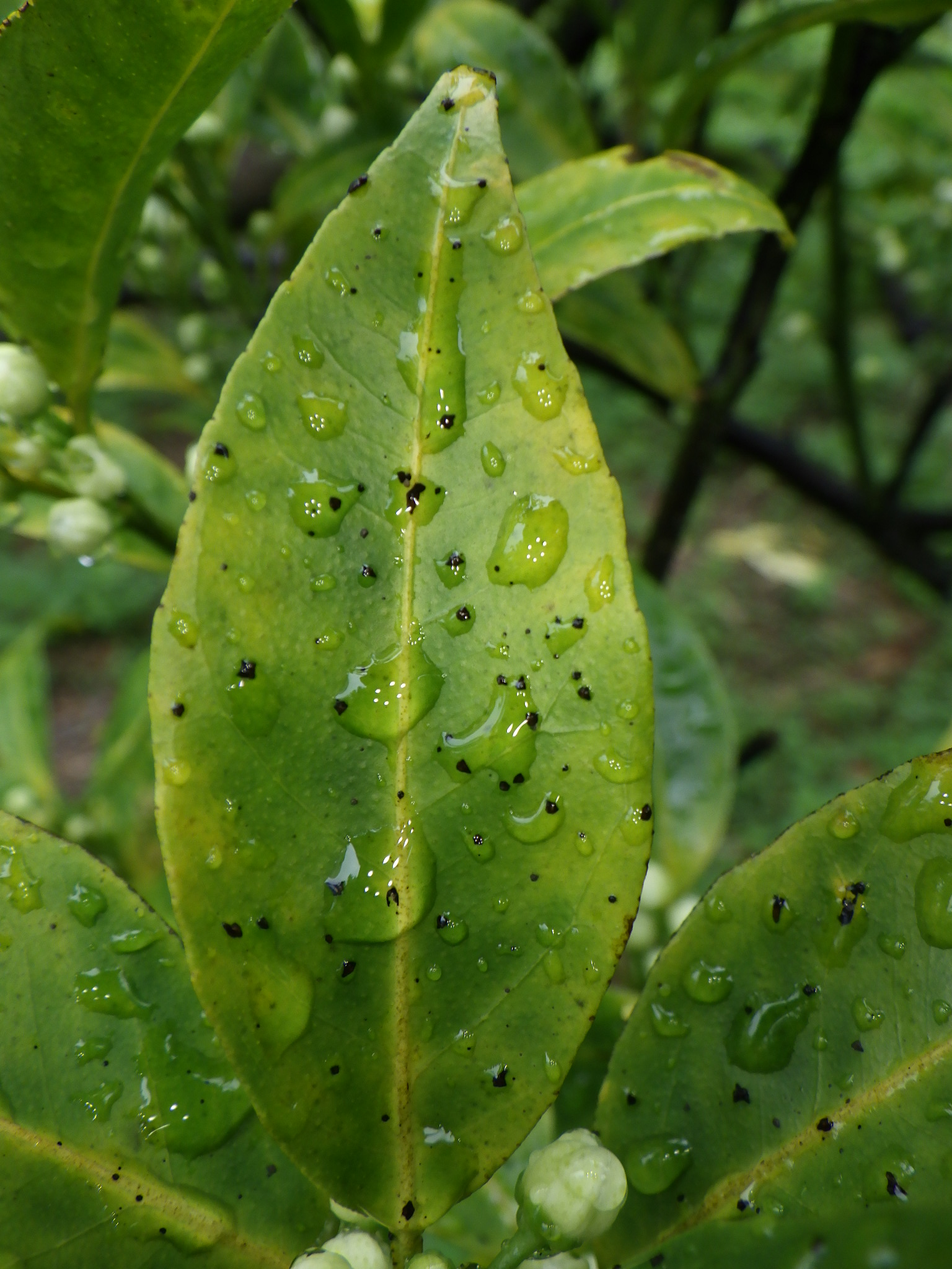Oily_Spot: (149, 66, 655, 1268)
